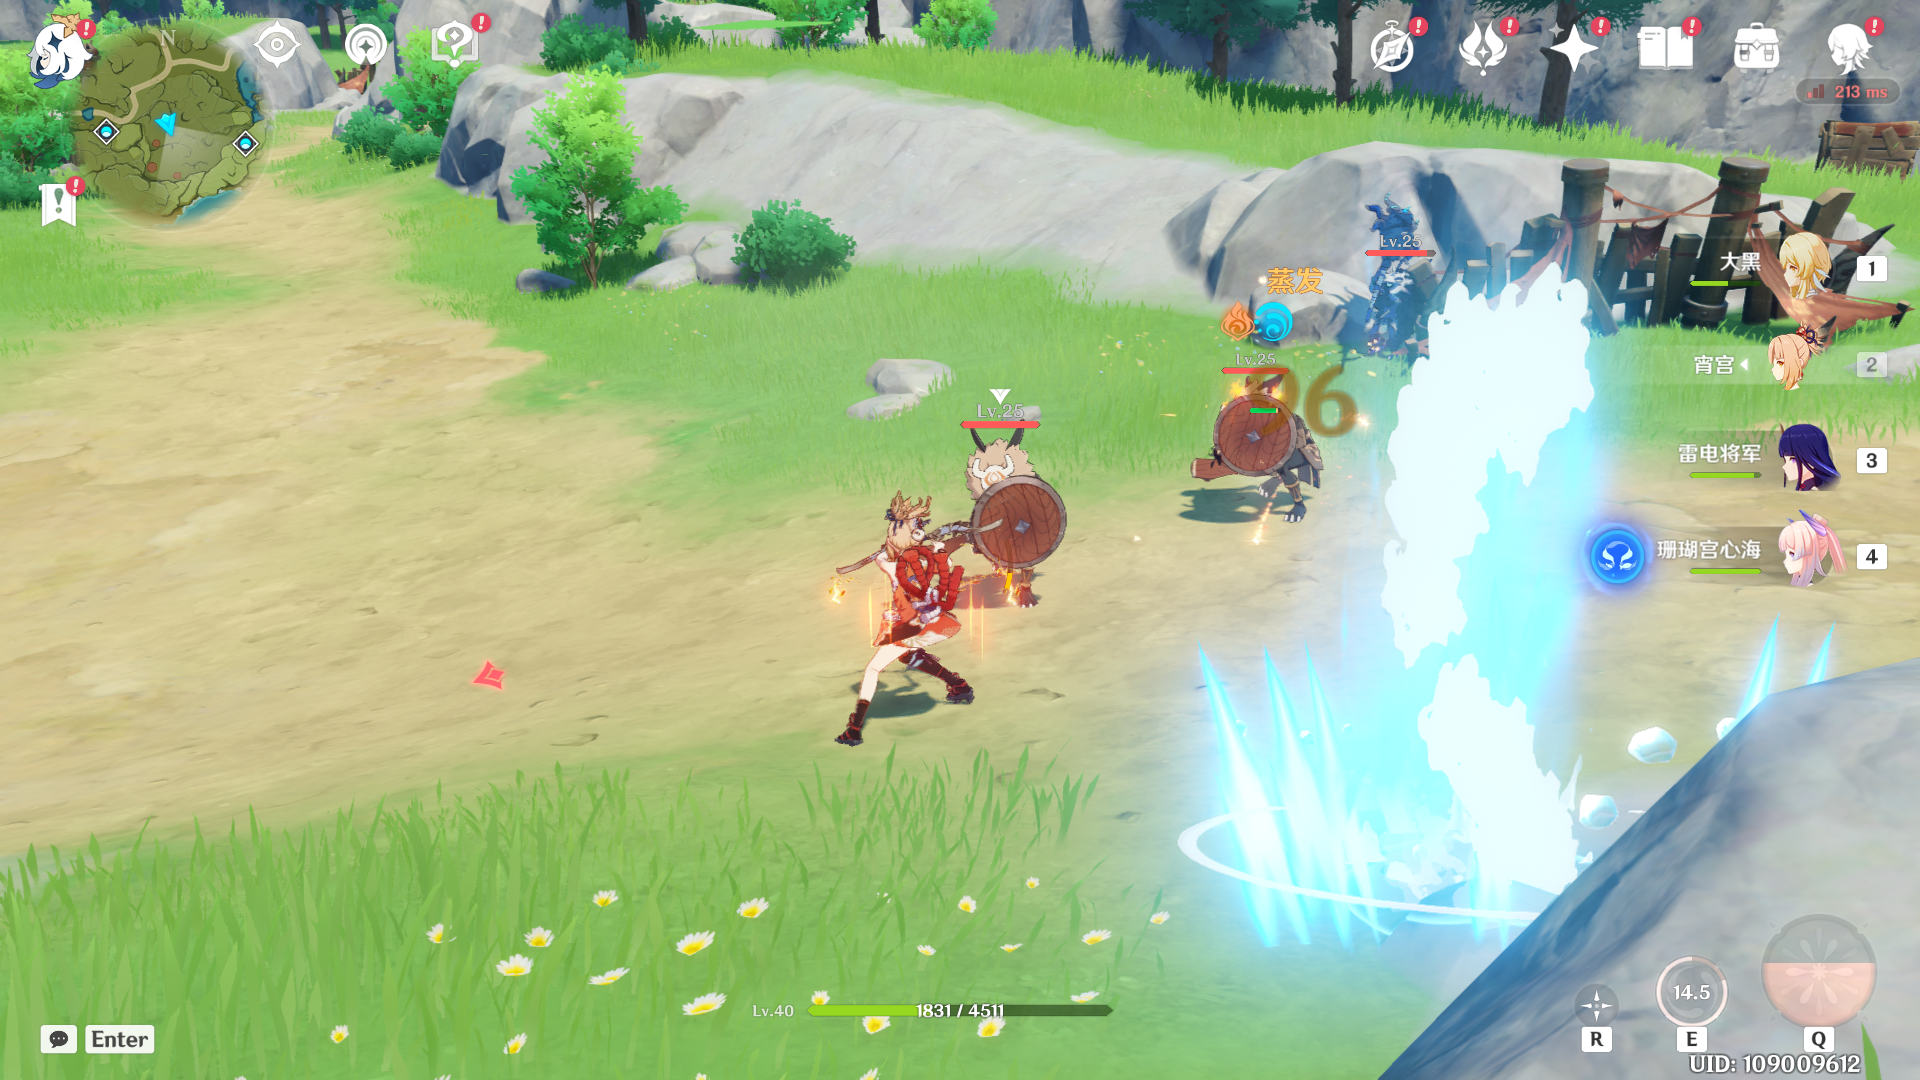character: (791, 487, 1005, 762)
hili: (916, 423, 1109, 617), (1183, 353, 1354, 537), (1350, 191, 1445, 357)
